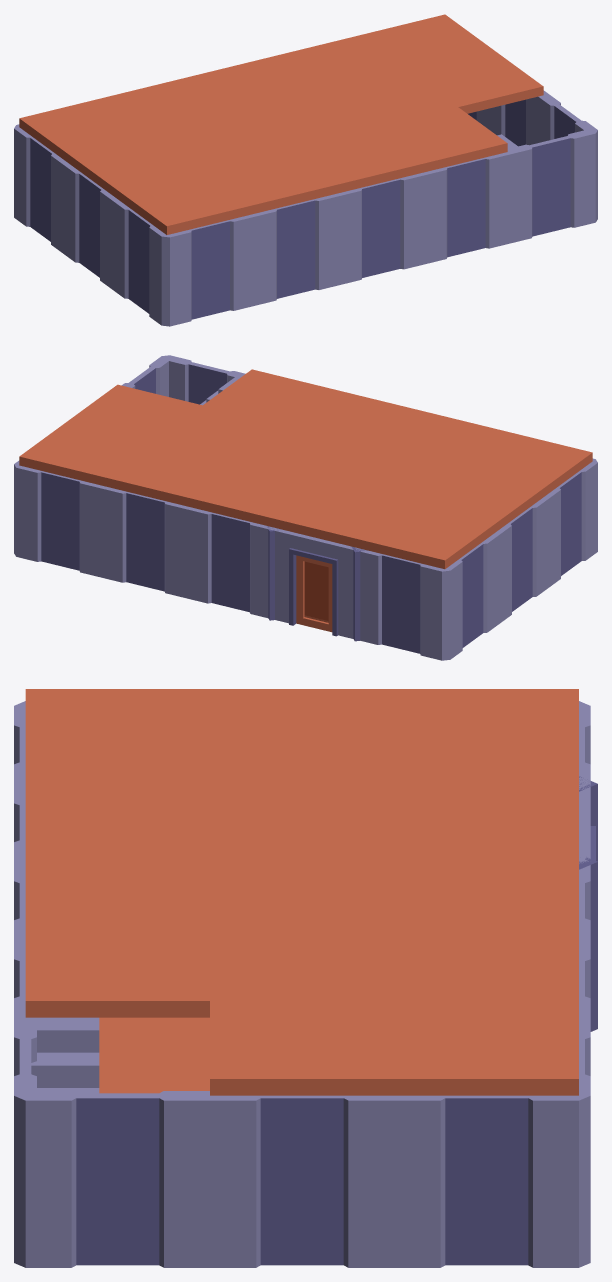
The model's file is HouseTest.glb.
3 renders of one model, top to bottom at view 1: azimuth 30°, elevation 25°; view 2: azimuth 150°, elevation 25°; view 3: azimuth 270°, elevation 25°, orthographic. The views are drawn at different scales.
Parts seen in each view (by area): view 1: porch_floorCenter (×14), wall_indent (×10); view 2: porch_floorCenter (×14), wall_indent (×9), doorway_doorWood, wall_sides; view 3: porch_floorCenter (×15), wall_indent (×12), stairs_corner%, wall_sides, doorway_doorWood.
Part boxes in pixels (<box>): porch_floorCenter (×14): <box>19,14,543,234</box>; wall_indent (×10): <box>14,90,597,326</box>; porch_floorCenter (×14): <box>19,369,592,569</box>; wall_indent (×9): <box>14,355,597,660</box>; doorway_doorWood: <box>270,527,353,638</box>; wall_sides: <box>267,526,367,641</box>; porch_floorCenter (×15): <box>25,689,578,1095</box>; wall_indent (×12): <box>14,701,590,1267</box>; stairs_corner%: <box>26,1017,99,1093</box>; wall_sides: <box>579,776,597,1031</box>; doorway_doorWood: <box>579,780,595,860</box>.
Size of the model in its own units: 5.13 by 1.1 by 3.17.
Materials: 1 (1 with a texture image).
